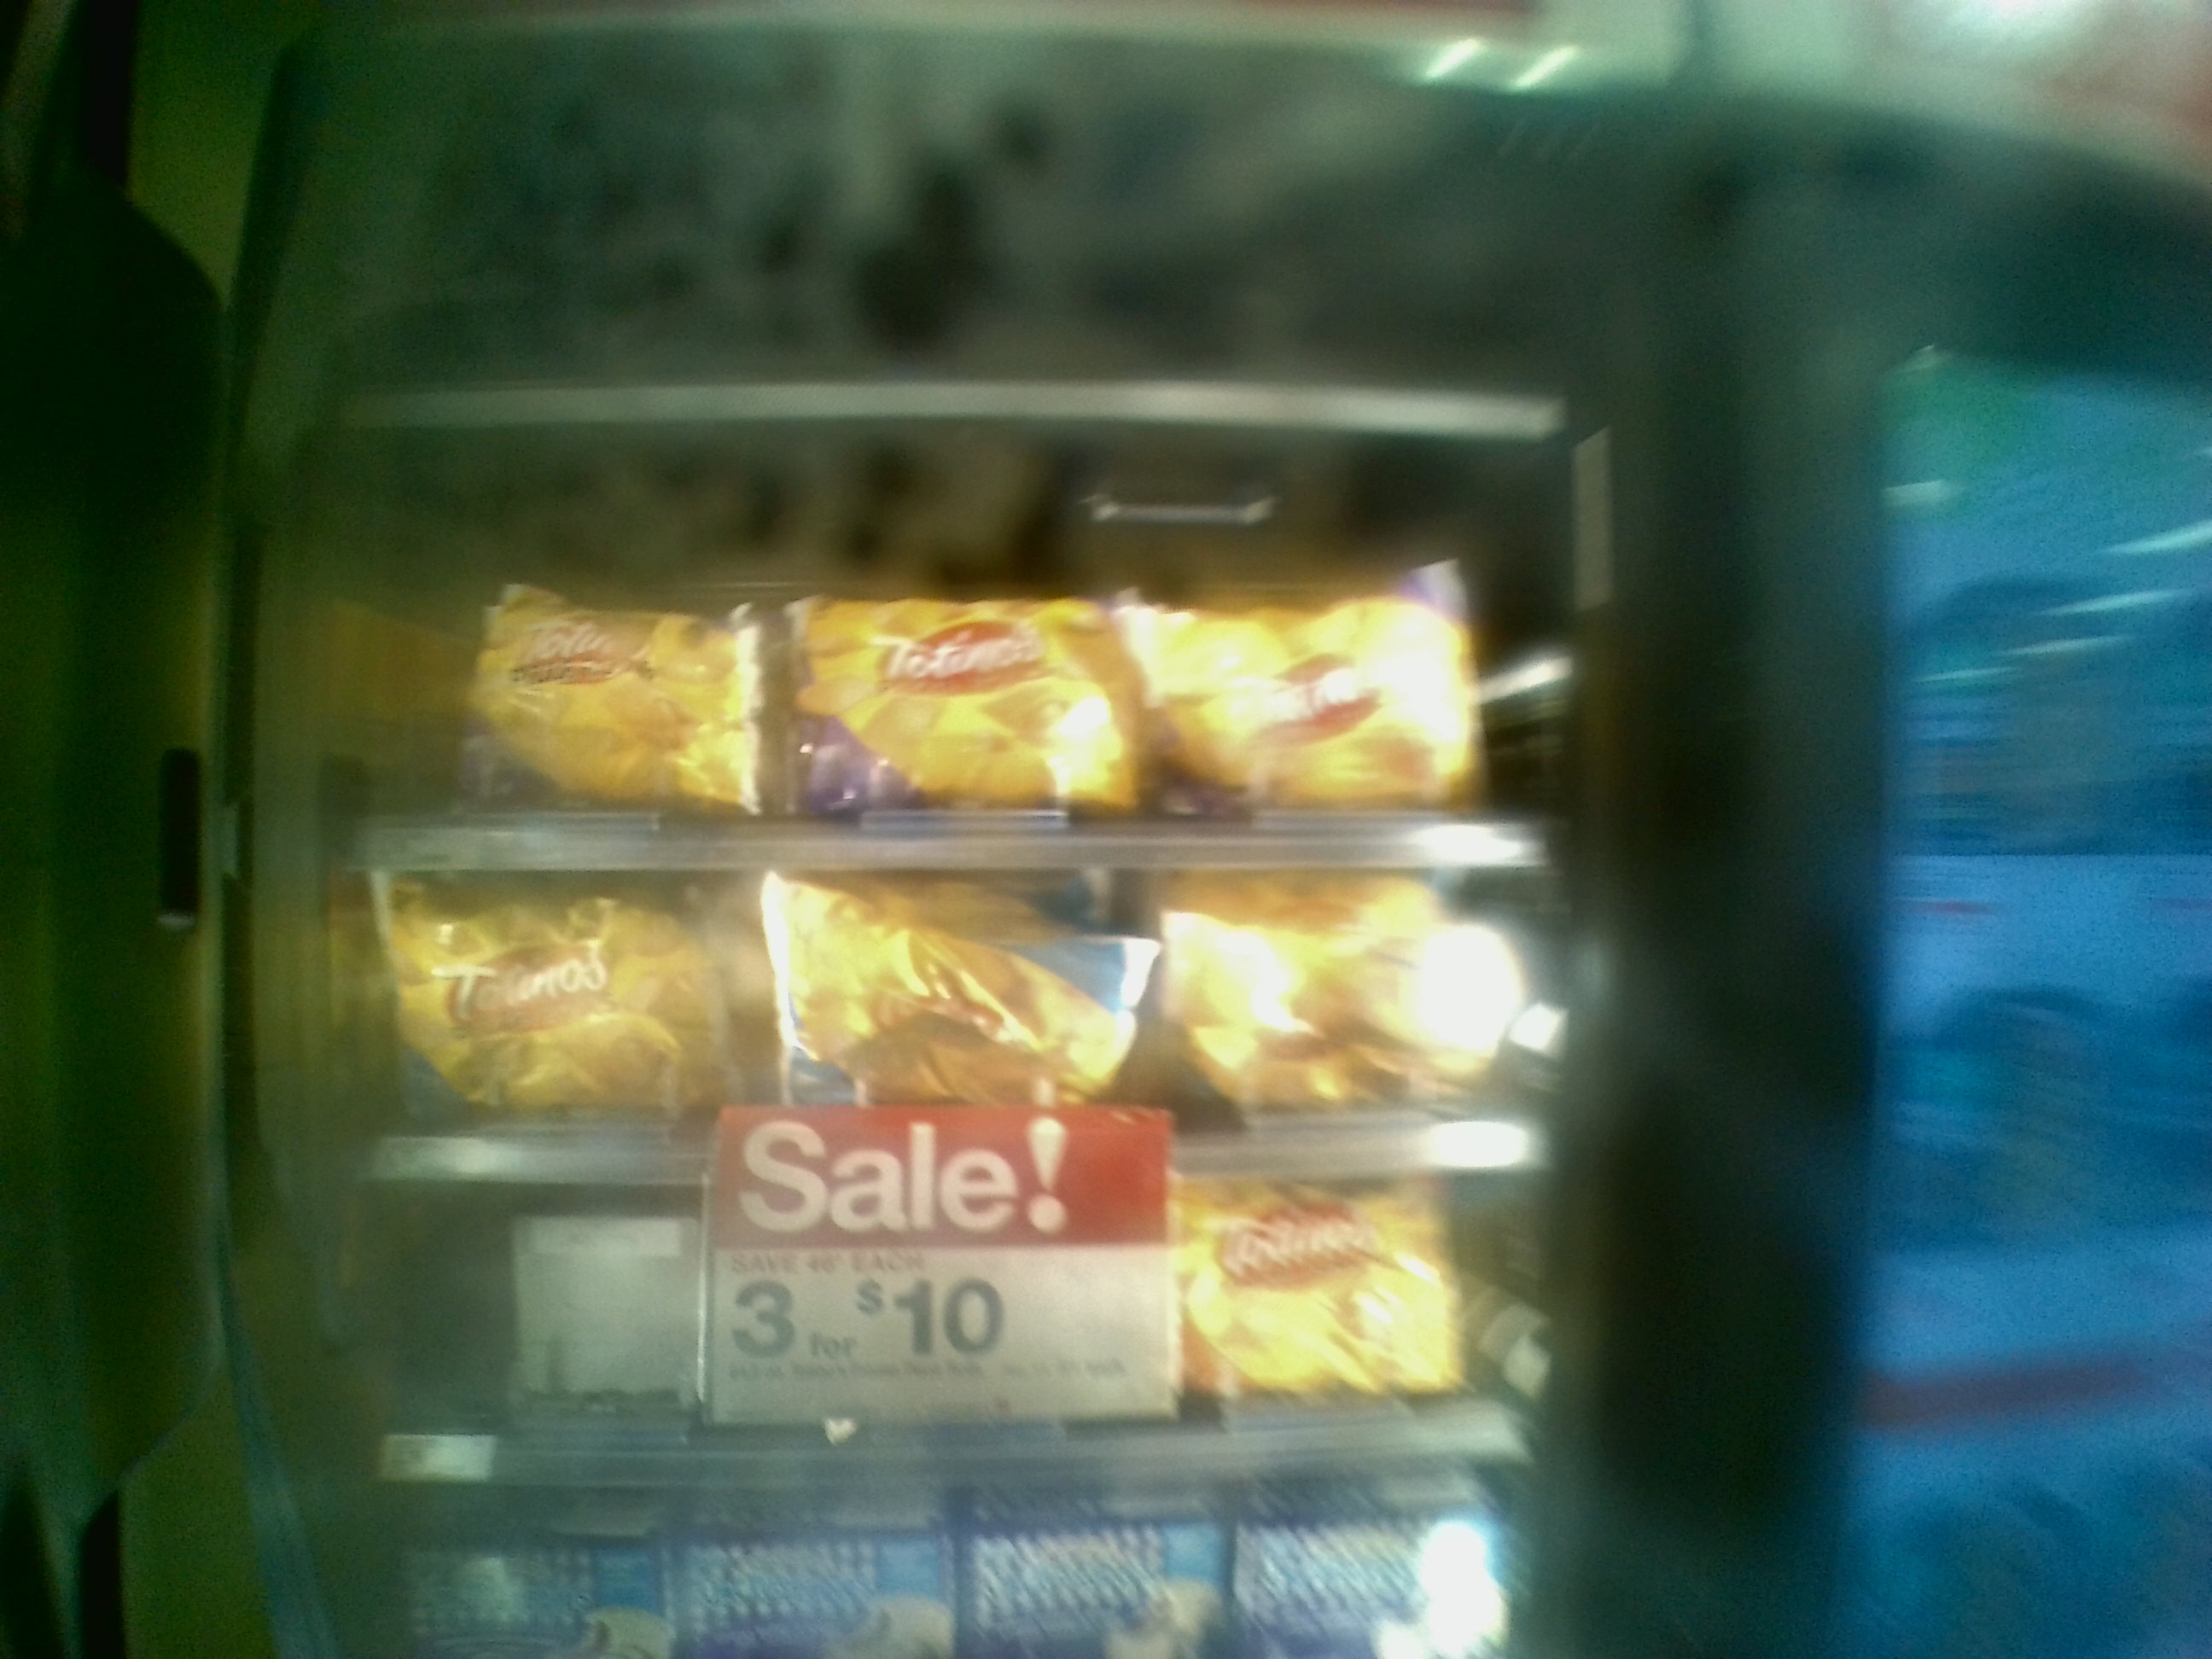shelf: (345, 387, 1562, 859), (338, 859, 1561, 1178)
